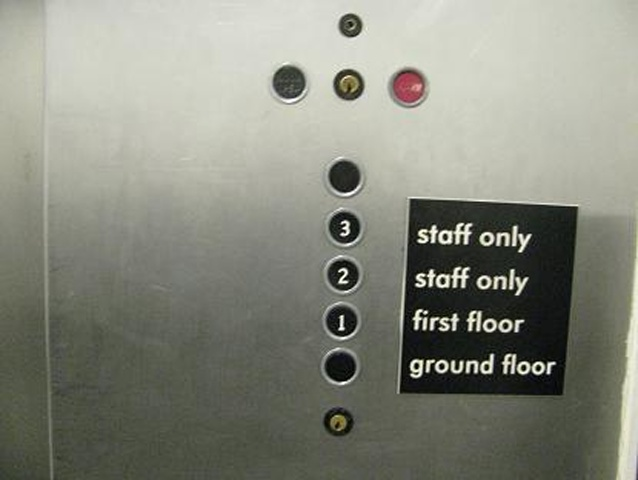1: (321, 301, 362, 341)
2: (321, 253, 364, 294)
3: (323, 207, 366, 247)
blur: (388, 65, 430, 109), (270, 64, 310, 103)
empty: (323, 156, 365, 197), (320, 347, 362, 386)
keyhole: (332, 68, 367, 102), (320, 405, 356, 438)
